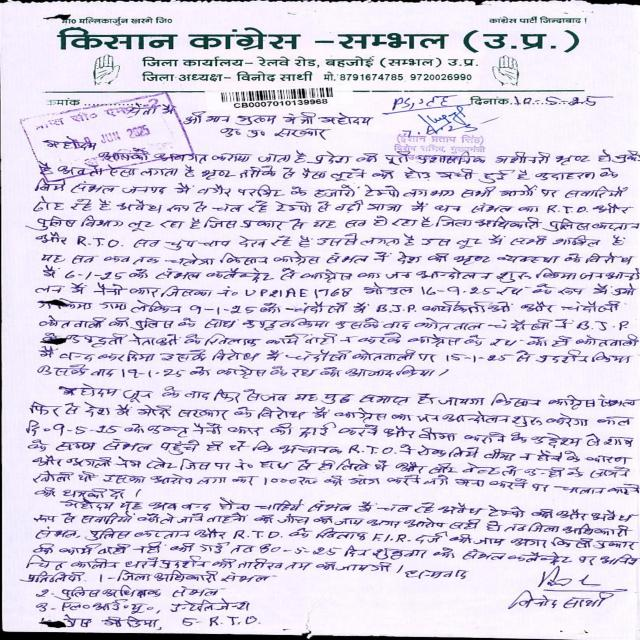antritgovtstamp: (21, 91, 210, 182)
barcode: (217, 86, 343, 111)
letterhead: (34, 2, 598, 89)
signnamestamp: (395, 110, 499, 160)
